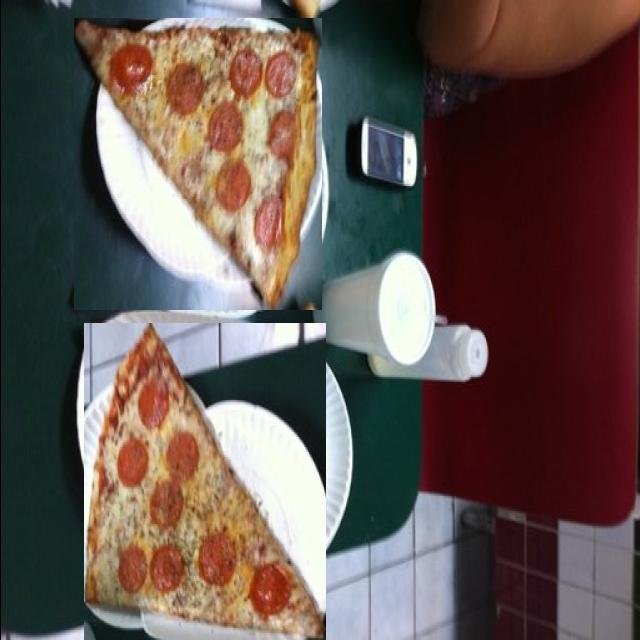pepperoni: (118, 347, 160, 400), (172, 377, 212, 430), (109, 238, 152, 283), (167, 213, 202, 266), (210, 480, 244, 532), (215, 116, 250, 166), (224, 371, 260, 417), (240, 535, 272, 585), (208, 177, 241, 225), (226, 434, 260, 480), (228, 233, 262, 278), (254, 79, 282, 133), (262, 476, 292, 523), (261, 371, 292, 415), (264, 230, 294, 275), (267, 170, 295, 216)
pizza: (83, 323, 325, 640), (73, 18, 321, 310)
